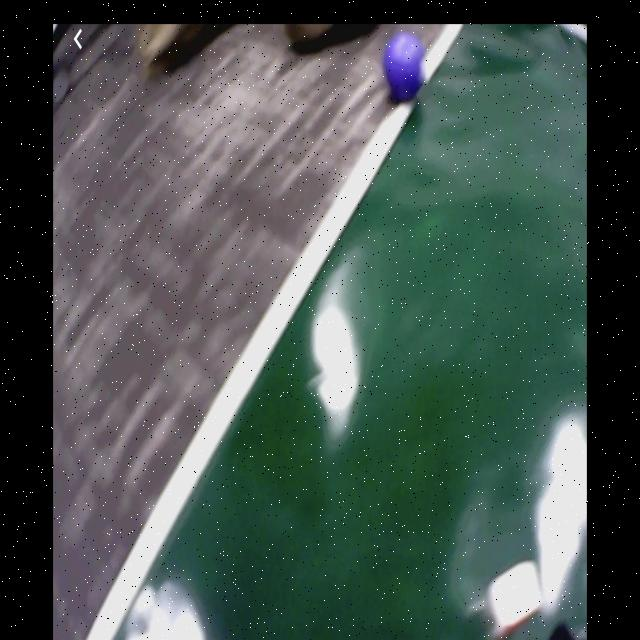ball: (386, 34, 425, 97)
